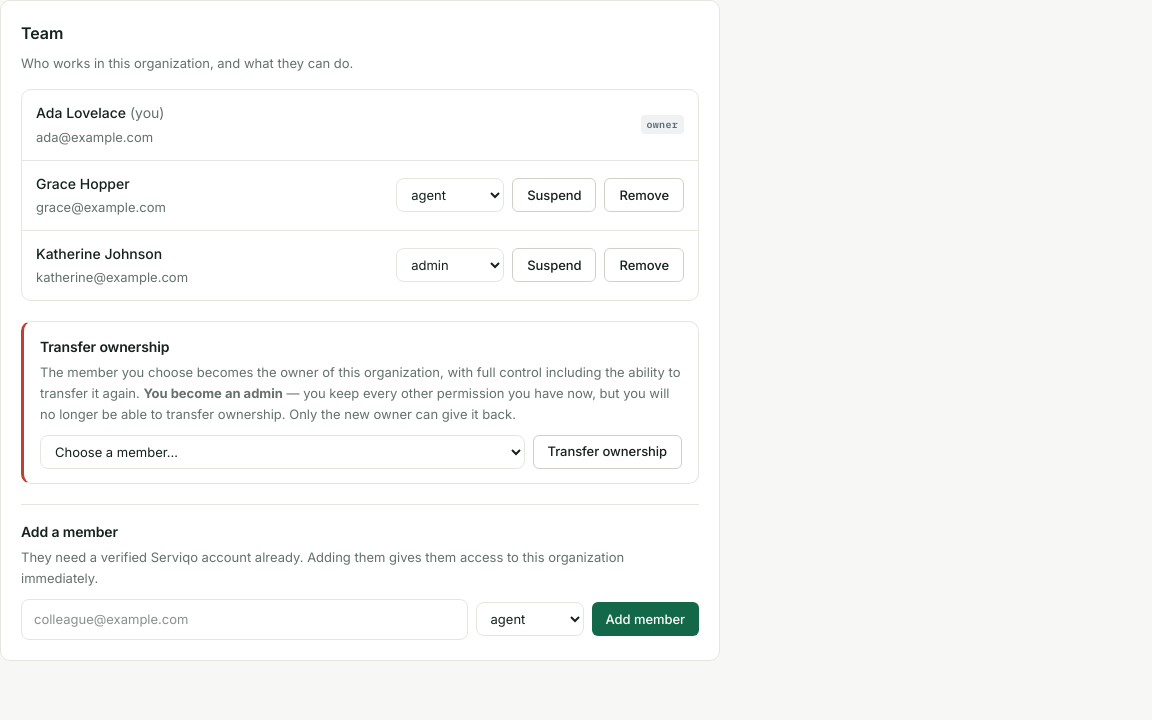
Test: TransferOwnership › confirmation › lets the choice change again once the confirmation is cancelled
The width and height of the screenshot is (1152, 720).
Expected: the text "Grace Hopper" is shown, [36,175,130,192]
Select "Grace Hopper (agent)" in the dropdown named "new owner" below "You become an admin" at point(282, 452), box [40,435,524,469]
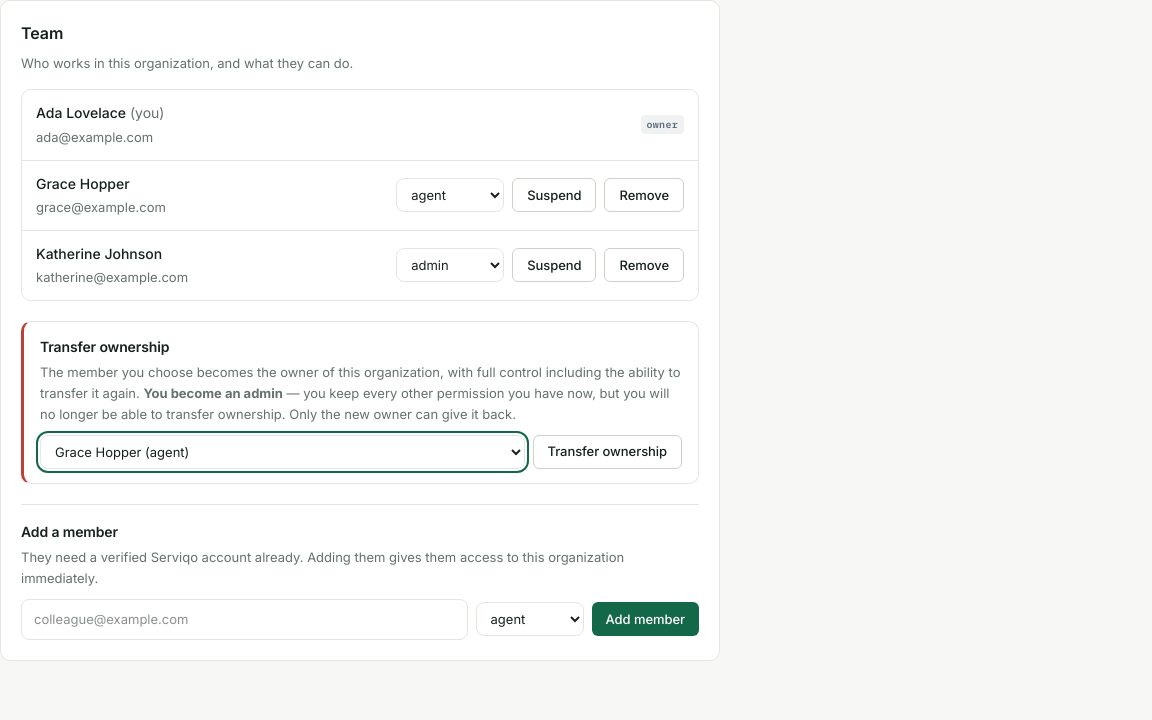
Click the button "Transfer ownership".
click(607, 452)  # box [532,435,682,469]
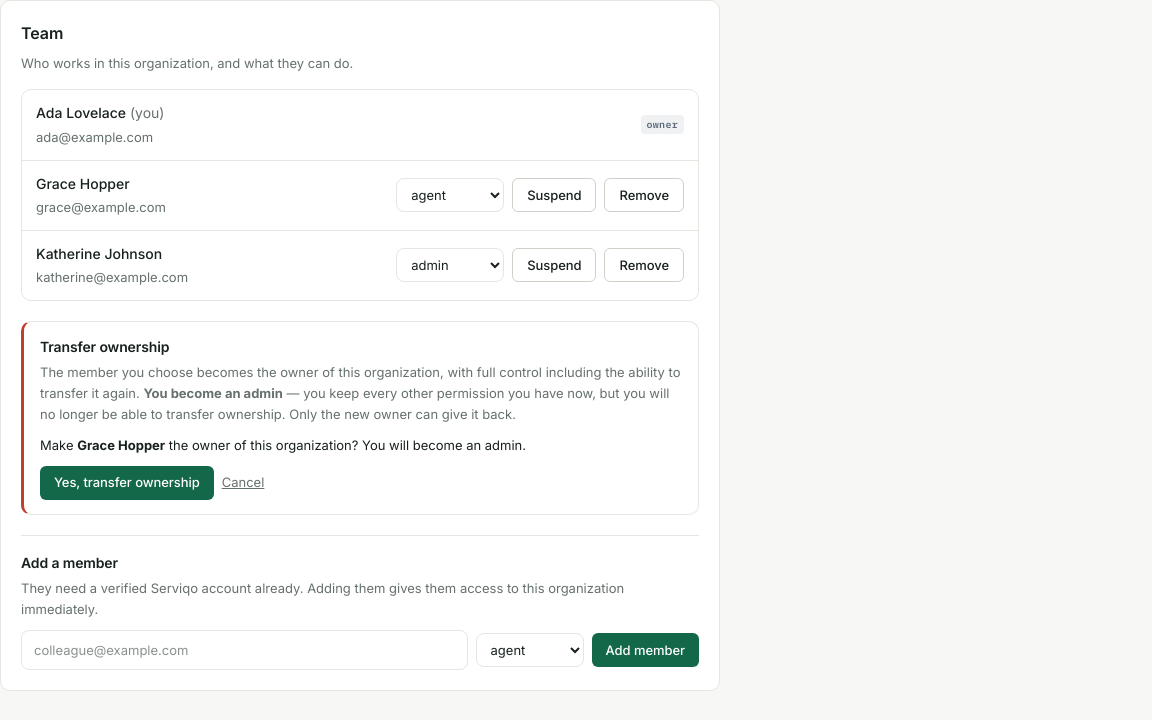
Click the button "Cancel".
click(243, 482)  # box [222,472,264,493]
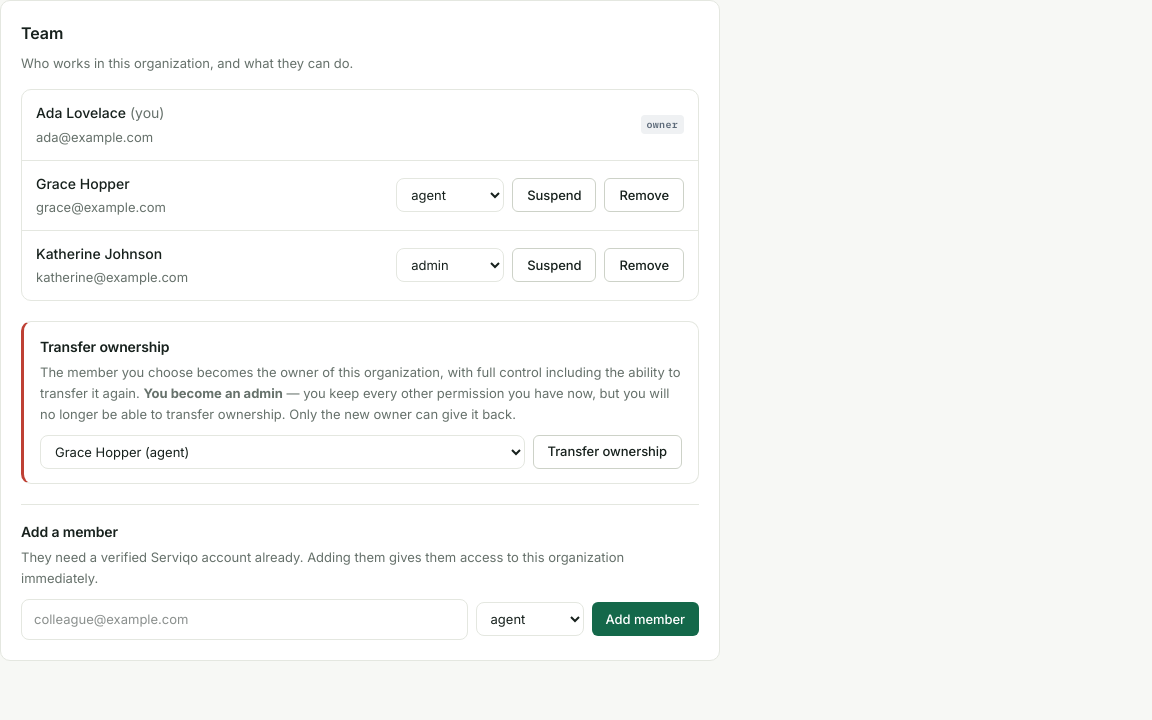
Select "Katherine Johnson (admin)" in the dropdown named "new owner" below "You become an admin" at point(282, 452), box [40,435,524,469]
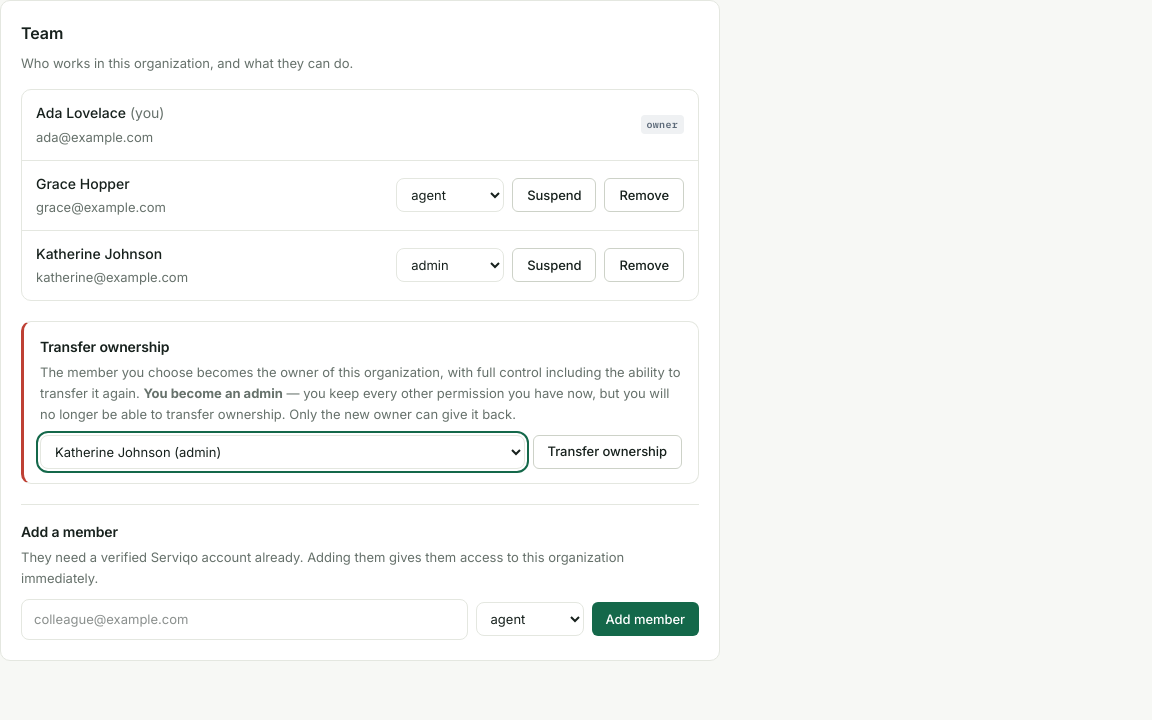
Click the button "Transfer ownership".
click(607, 452)  # box [532,435,682,469]
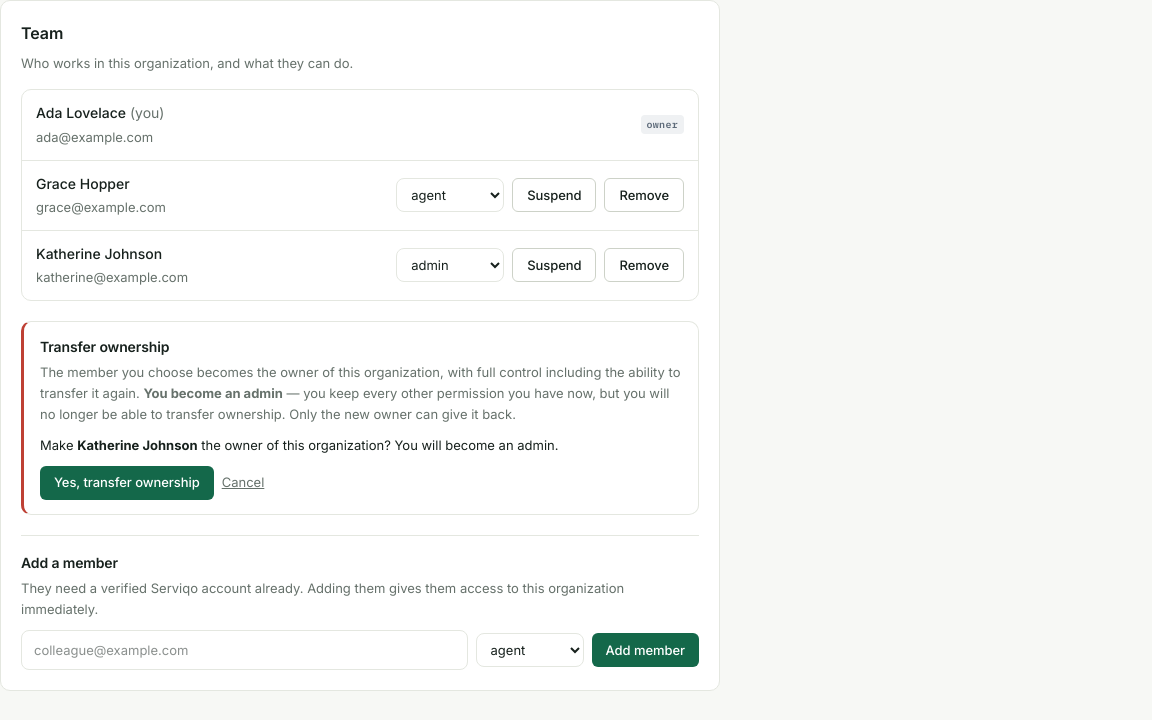
Expected: the dialog does not show "Grace Hopper"
Result: the dialog shows "Katherine Johnson" at [77,437,198,453]
